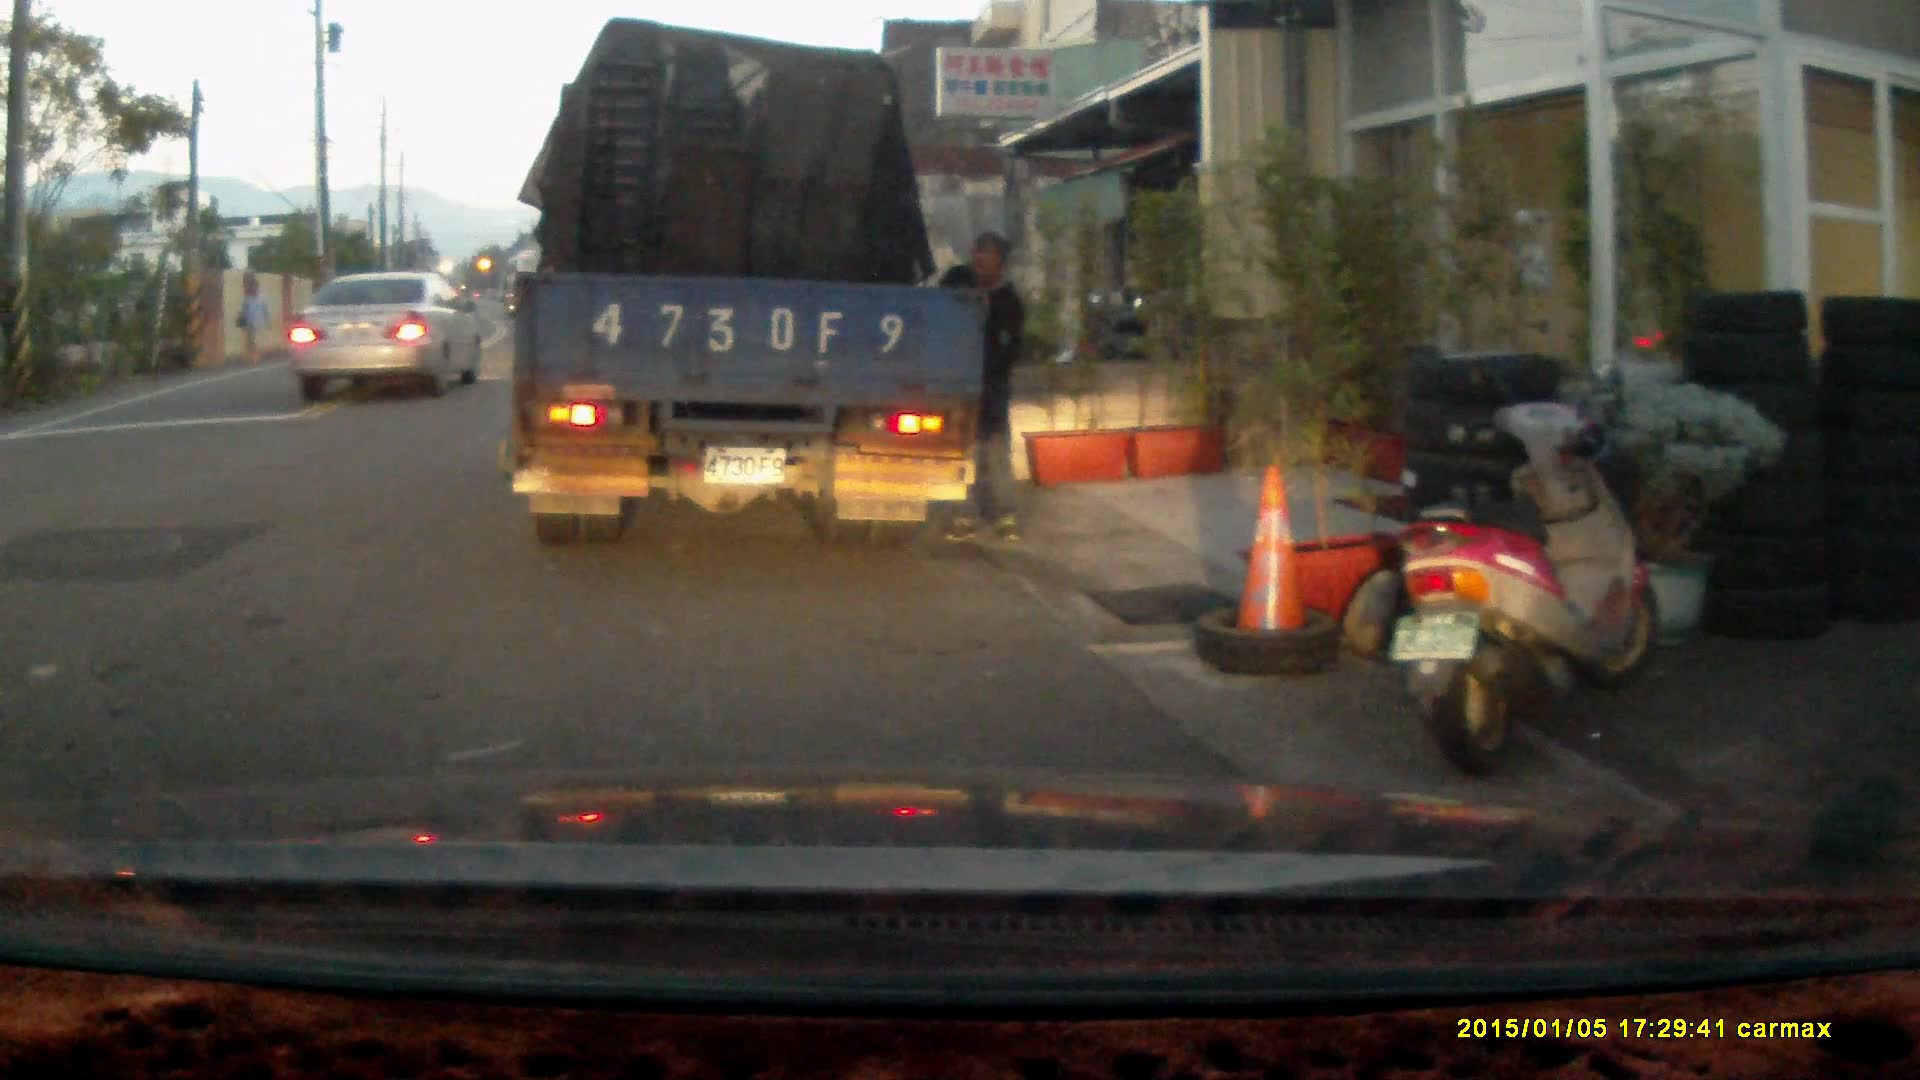pedestrian: (932, 225, 1026, 547), (229, 273, 268, 365)
vehicle: (514, 27, 989, 545), (290, 270, 490, 399)
